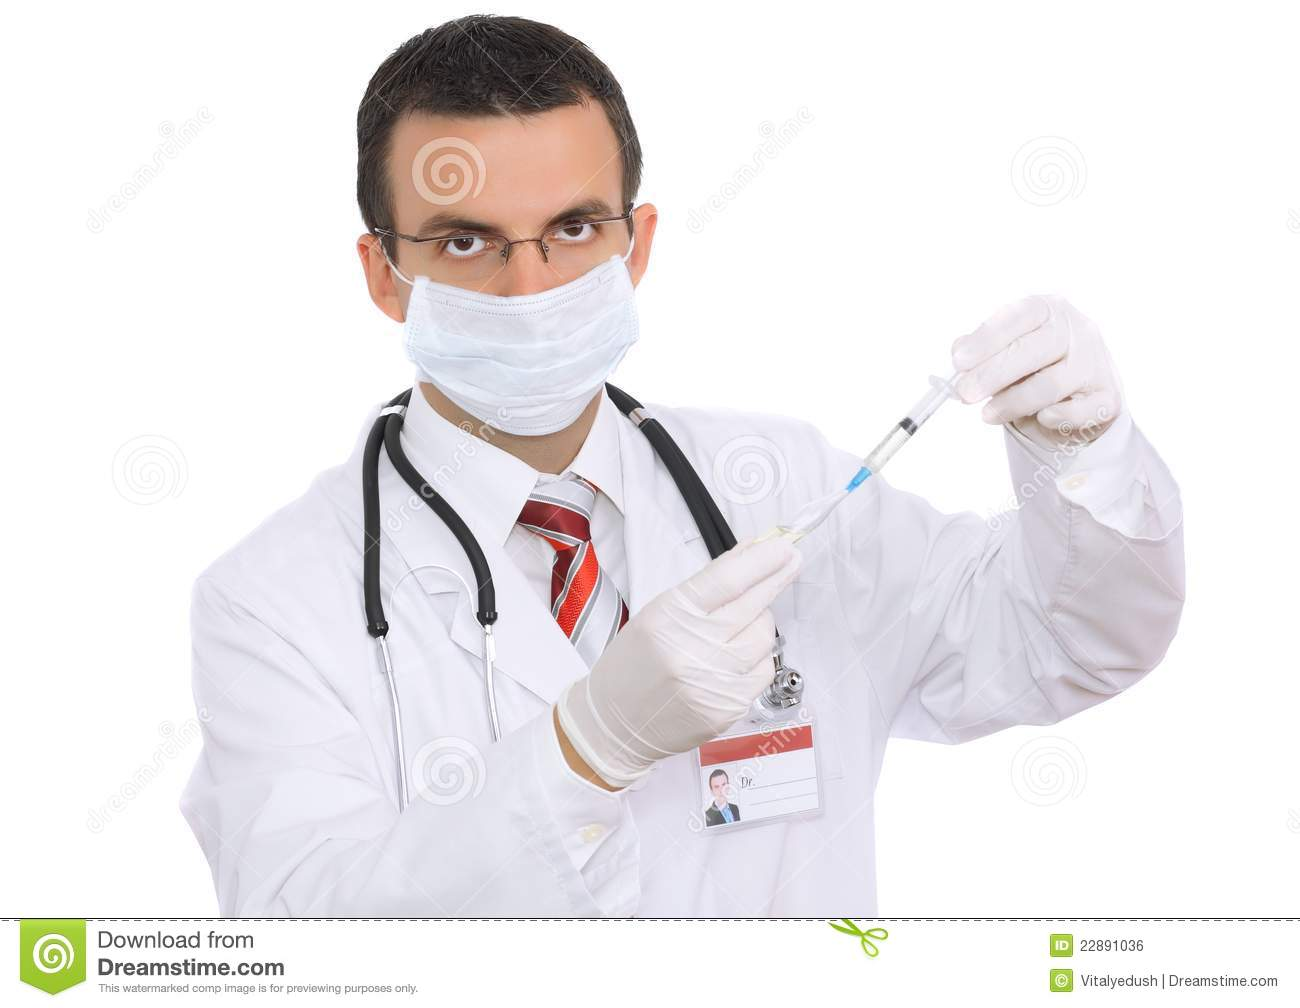mask: (398, 270, 664, 436)
